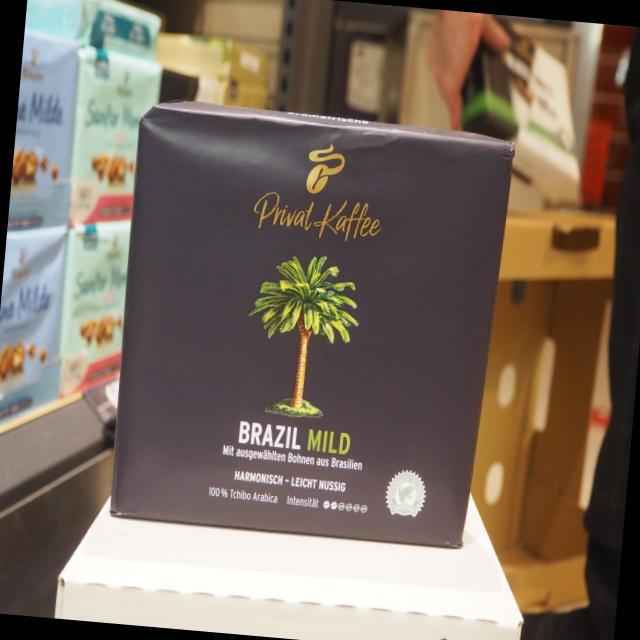BM Gemahlen: (101, 93, 522, 560)
